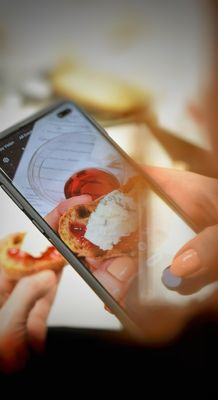salad: (0, 230, 65, 280)
